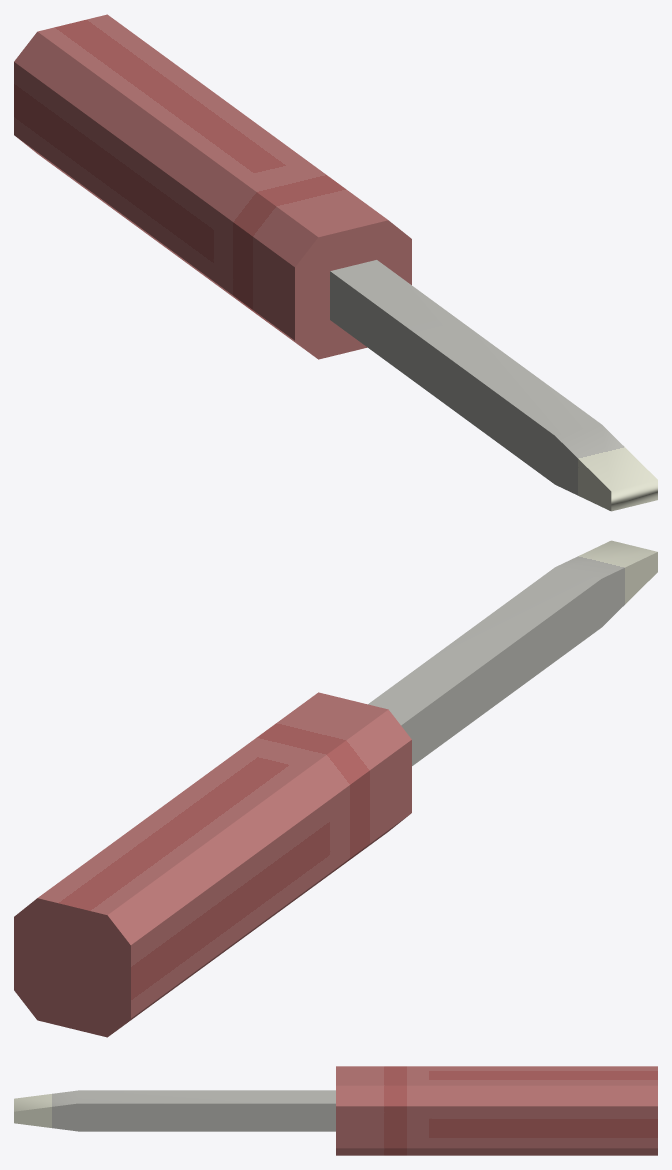
File: 0049_Screwdriver.glb
3 renders of one model, top to bottom at view 1: azimuth 30°, elevation 25°; view 2: azimuth 150°, elevation 25°; view 3: azimuth 270°, elevation 25°, orthographic. The views are drawn at different scales.
Parts seen in each view (by area): view 1: part_0; view 2: part_0; view 3: part_0.
Part boxes in pixels (<box>): part_0: <box>14,14,657,511</box>; part_0: <box>14,540,657,1037</box>; part_0: <box>14,1066,657,1155</box>.
Bounding box in the file's own units: 0.03 × 0.03 × 0.25.
1 material, 1 textured.
